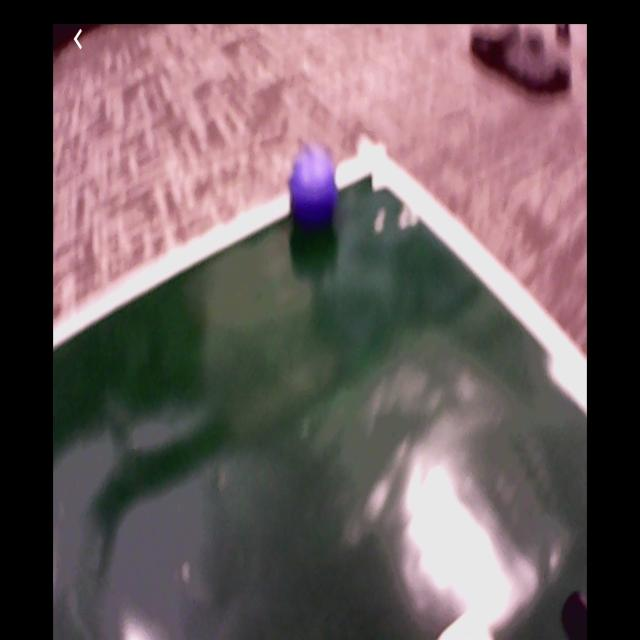ball: (290, 154, 338, 226)
